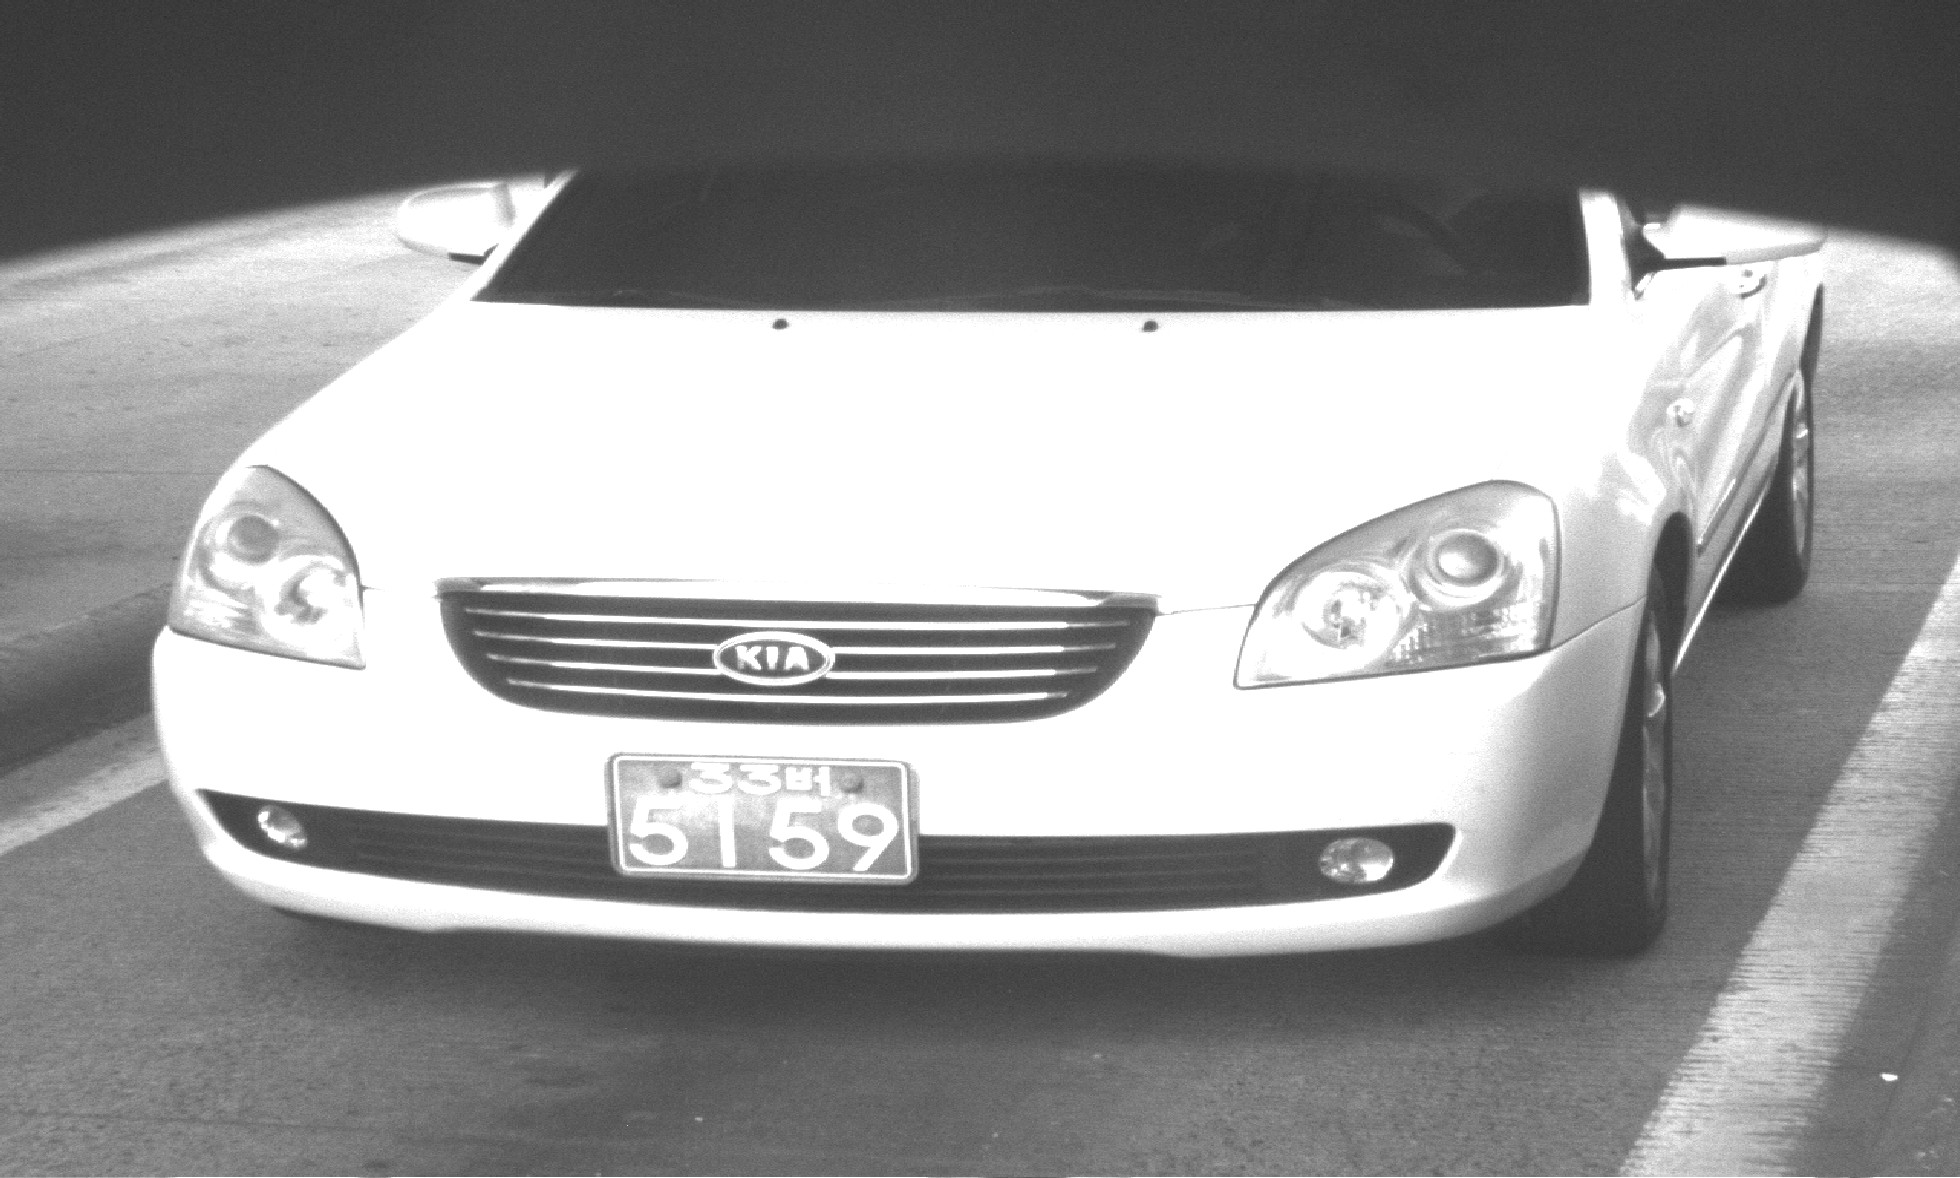car: (142, 132, 1838, 965)
plate: (603, 750, 922, 887)
